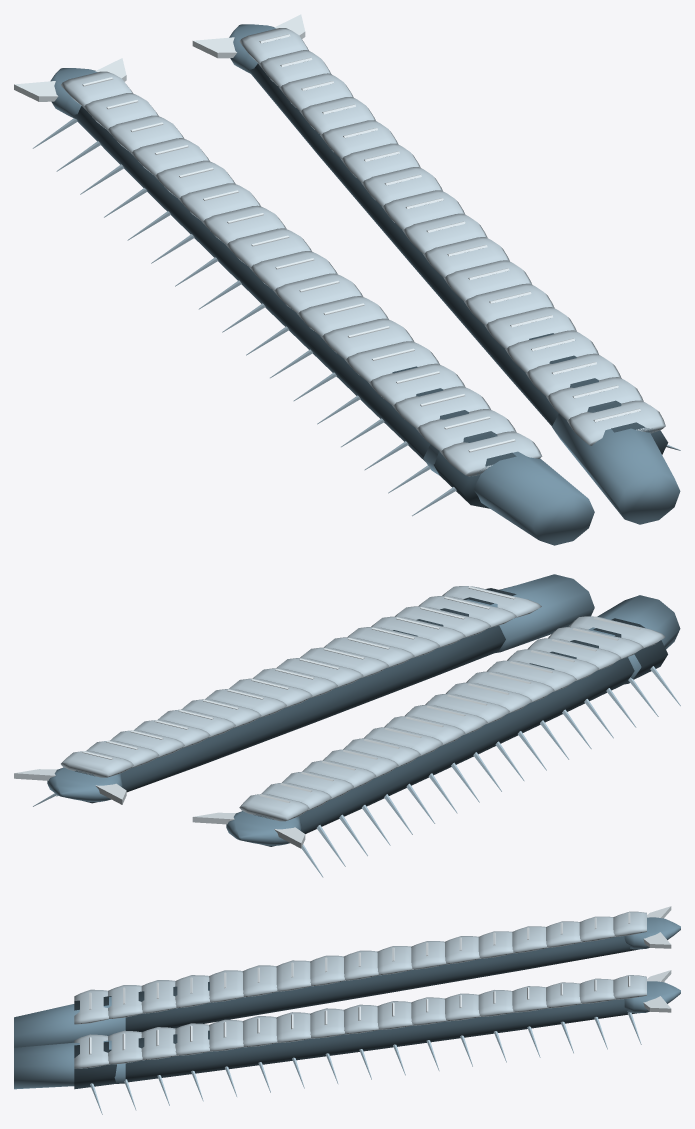
The model's file is tails_v2.glb.
3 renders of one model, top to bottom at view 1: azimuth 30°, elevation 25°; view 2: azimuth 150°, elevation 25°; view 3: azimuth 270°, elevation 25°, orthographic. The views are drawn at different scales.
Parts seen in each view (by area): view 1: Tail_Structural_Core_-1, Tail_Structural_Core_1, Tail_Base_Collar_-1, Tail_Base_Collar_1, Tail_Armor_Scale_-1_00, Tail_Armor_Scale_1_00, Tail_Armor_Scale_-1_02, Tail_Armor_Scale_-1_03, Tail_Armor_Scale_-1_01, Tail_Armor_Scale_1_02, Tail_Armor_Scale_-1_04, Tail_Armor_Scale_1_03 (+28 smaller); view 2: Tail_Structural_Core_1, Tail_Structural_Core_-1, Tail_Base_Collar_1, Tail_Base_Collar_-1, Tail_Arrow_Center_-1, Tail_Arrow_Center_1, Tail_Armor_Scale_1_16, Tail_Armor_Scale_-1_16, Tail_Armor_Scale_1_03, Tail_Armor_Scale_1_02, Tail_Armor_Scale_1_01, Tail_Armor_Scale_1_04 (+28 smaller); view 3: Tail_Structural_Core_1, Tail_Structural_Core_-1, Tail_Base_Collar_-1, Tail_Base_Collar_1, Tail_Armor_Scale_-1_03, Tail_Armor_Scale_-1_02, Tail_Armor_Scale_1_02, Tail_Armor_Scale_1_03, Tail_Armor_Scale_1_01, Tail_Armor_Scale_1_04, Tail_Armor_Scale_-1_01, Tail_Armor_Scale_-1_04 (+28 smaller).
Part boxes in pixels (left/top/right/bottom): Tail_Structural_Core_-1: left=74, top=106, right=516, bottom=508; Tail_Structural_Core_1: left=250, top=63, right=668, bottom=454; Tail_Base_Collar_-1: left=423, top=431, right=594, bottom=545; Tail_Base_Collar_1: left=552, top=401, right=680, bottom=524; Tail_Armor_Scale_-1_00: left=440, top=431, right=542, bottom=476; Tail_Armor_Scale_1_00: left=567, top=400, right=665, bottom=445; Tail_Armor_Scale_-1_02: left=392, top=386, right=490, bottom=428; Tail_Armor_Scale_-1_03: left=368, top=363, right=465, bottom=405; Tail_Armor_Scale_-1_01: left=416, top=409, right=516, bottom=451; Tail_Armor_Scale_1_02: left=526, top=353, right=621, bottom=396; Tail_Armor_Scale_-1_04: left=344, top=341, right=439, bottom=382; Tail_Armor_Scale_1_03: left=505, top=330, right=598, bottom=372; Tail_Structural_Core_1: left=75, top=588, right=516, bottom=803; Tail_Structural_Core_-1: left=253, top=618, right=667, bottom=846; Tail_Base_Collar_1: left=466, top=574, right=594, bottom=652; Tail_Base_Collar_-1: left=588, top=595, right=680, bottom=684; Tail_Arrow_Center_-1: left=226, top=811, right=301, bottom=845; Tail_Arrow_Center_1: left=47, top=767, right=122, bottom=801; Tail_Armor_Scale_1_16: left=61, top=751, right=133, bottom=777; Tail_Armor_Scale_-1_16: left=239, top=793, right=309, bottom=821; Tail_Armor_Scale_1_03: left=371, top=616, right=465, bottom=648; Tail_Armor_Scale_1_02: left=395, top=606, right=490, bottom=638; Tail_Armor_Scale_1_01: left=418, top=596, right=516, bottom=628; Tail_Armor_Scale_1_04: left=347, top=627, right=440, bottom=658; Tail_Structural_Core_1: left=74, top=999, right=636, bottom=1089; Tail_Structural_Core_-1: left=74, top=936, right=639, bottom=1032; Tail_Base_Collar_-1: left=14, top=996, right=125, bottom=1047; Tail_Base_Collar_1: left=14, top=1040, right=125, bottom=1089; Tail_Armor_Scale_-1_03: left=175, top=975, right=210, bottom=1008; Tail_Armor_Scale_-1_02: left=141, top=980, right=176, bottom=1013; Tail_Armor_Scale_1_02: left=141, top=1027, right=176, bottom=1060; Tail_Armor_Scale_1_03: left=175, top=1023, right=209, bottom=1055; Tail_Armor_Scale_1_01: left=108, top=1030, right=142, bottom=1064; Tail_Armor_Scale_1_04: left=209, top=1019, right=243, bottom=1051; Tail_Armor_Scale_-1_01: left=108, top=985, right=143, bottom=1019; Tail_Armor_Scale_-1_04: left=209, top=970, right=243, bottom=1002.
Size of the model in its own units: 6.11 by 3.33 by 16.6.
